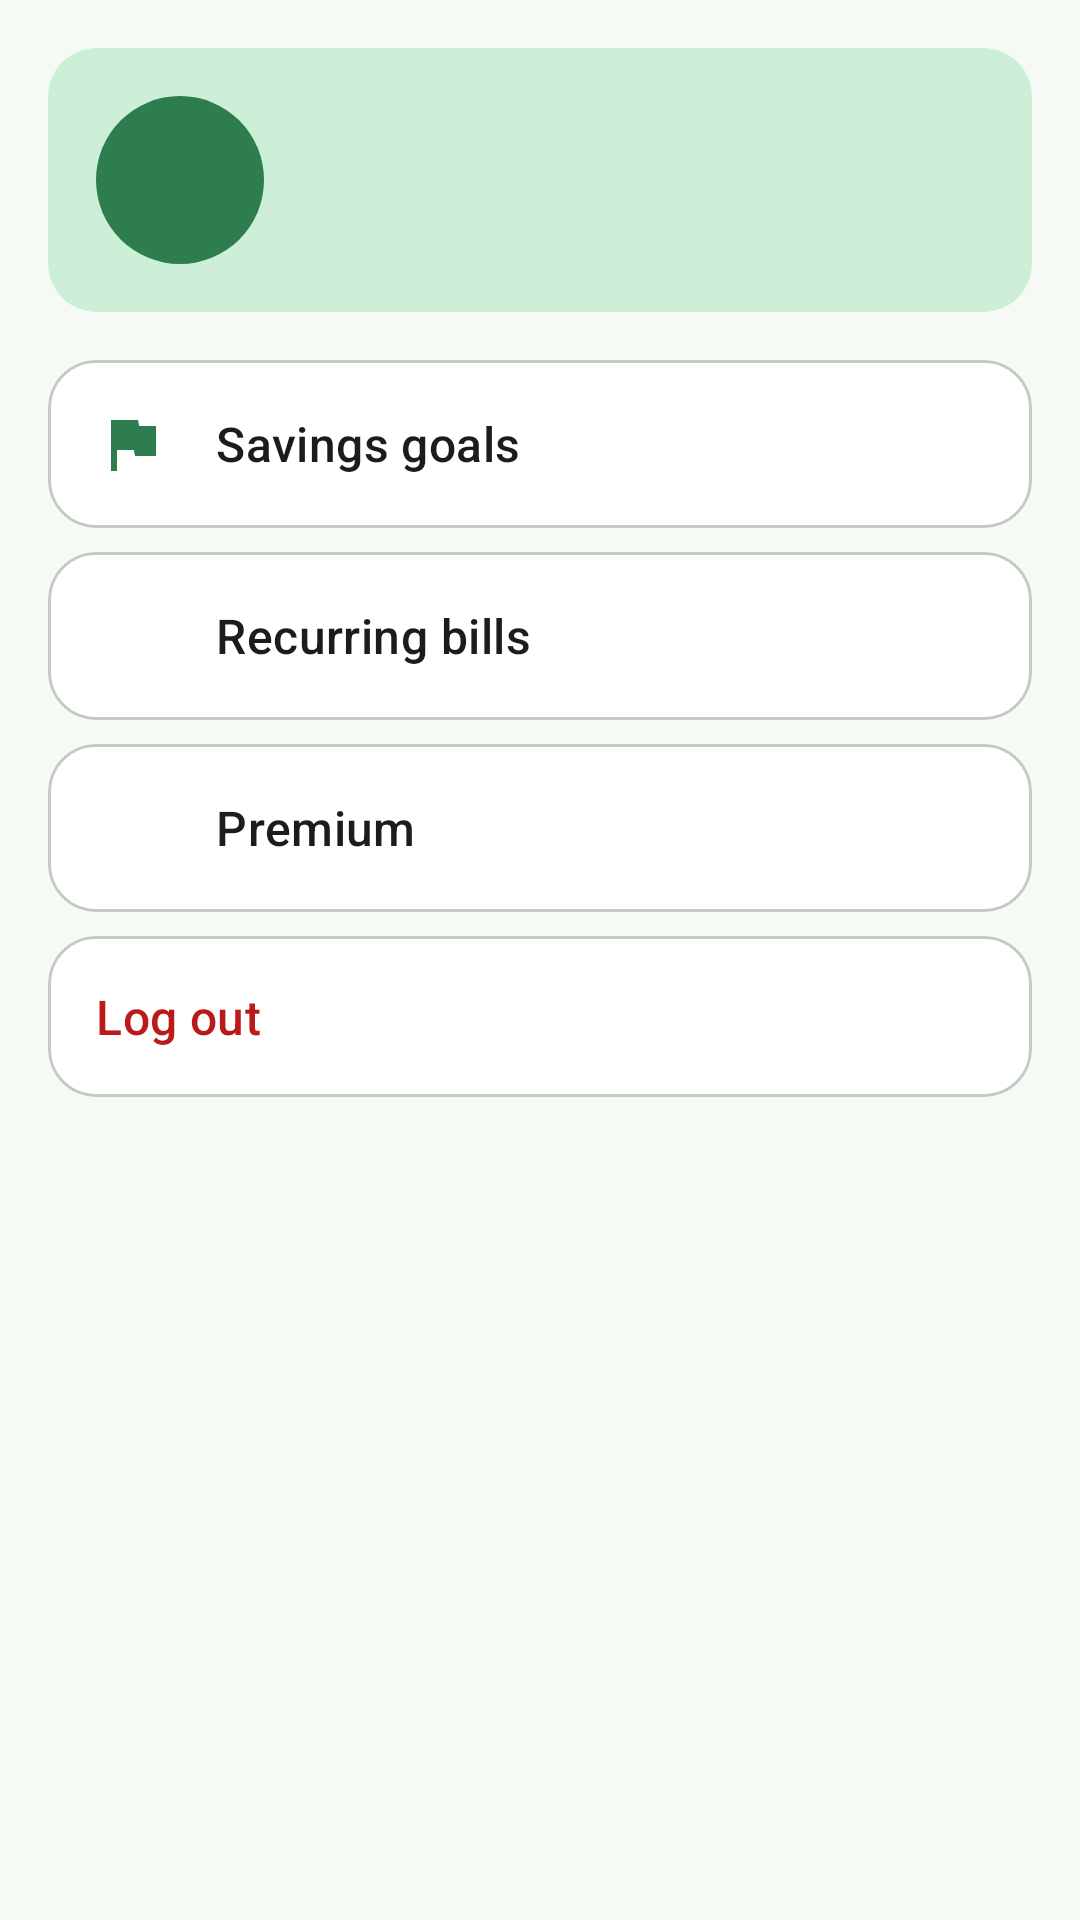

Named icons in this screenshot (1080*1920) and their bounding boxes, (left=x1, top=y1, right=x2, bottom=y2):
flag: (left=111, top=420, right=156, bottom=471)
